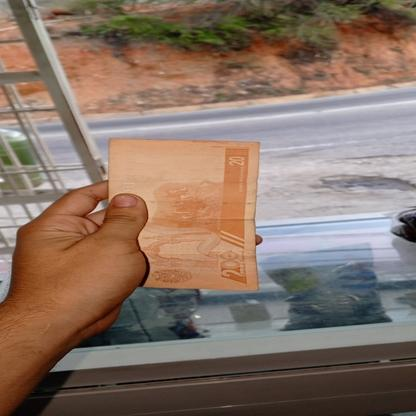twenty-back-vef: (107, 138, 261, 292)
